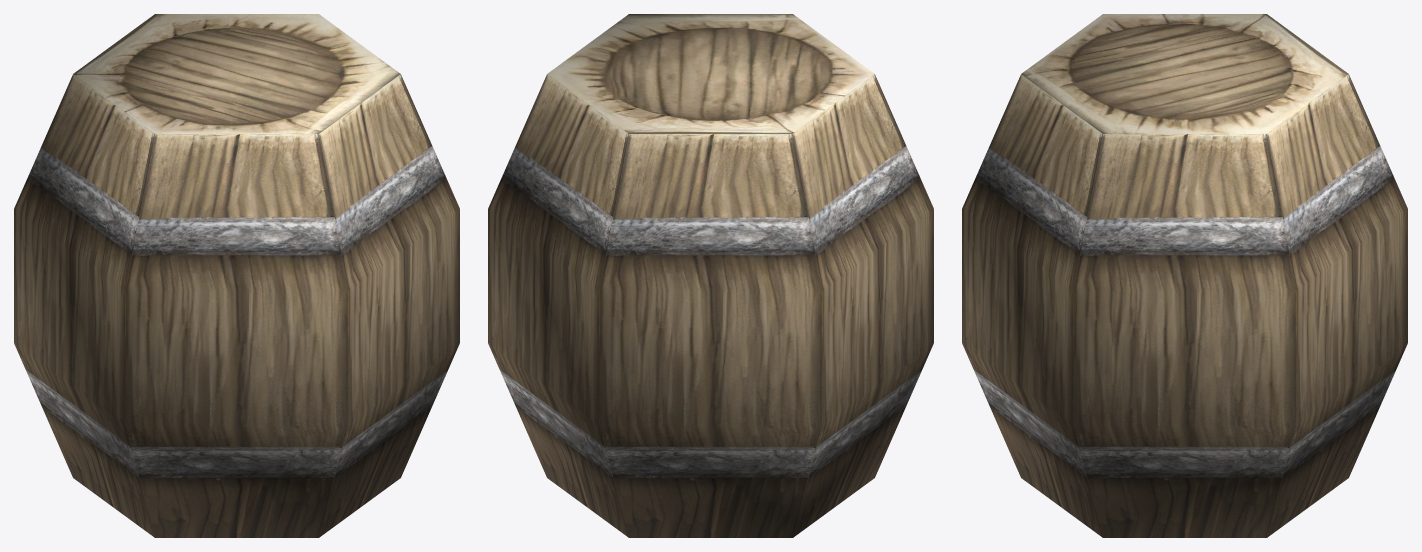
The model's file is westfallbarrel01.obj.
3 renders of one model, left to right at view 1: azimuth 30°, elevation 25°; view 2: azimuth 150°, elevation 25°; view 3: azimuth 270°, elevation 25°, orthographic.
Visible parts, largest first — view 1: westfallbarrel01; view 2: westfallbarrel01; view 3: westfallbarrel01.
Boxes of the visible parts, x1,y1,x2,y2 form: westfallbarrel01: [14, 14, 459, 537]; westfallbarrel01: [488, 14, 933, 537]; westfallbarrel01: [962, 14, 1407, 537].
Size of the model in its own units: 0.8592 by 0.9921 by 0.9921.
Materials: 1 (1 with a texture image).
